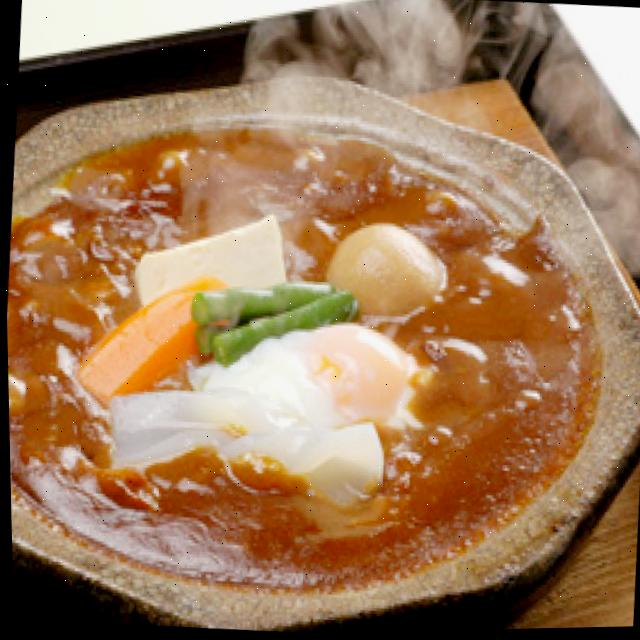汤锅炖物: (1, 37, 640, 640)
